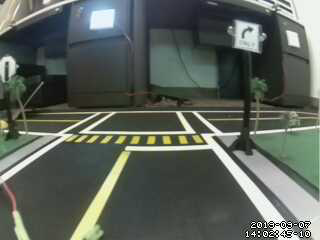Right_only_sign: (234, 20, 265, 55)
